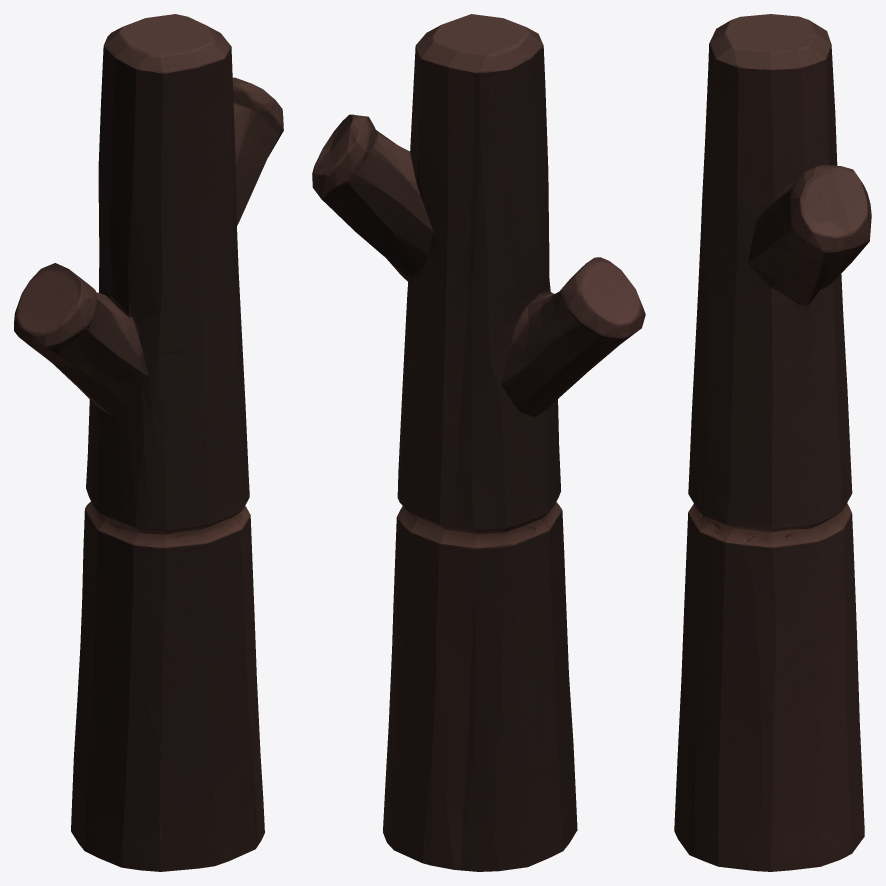
Rendered from bare-trunk-tall.glb.
The picture shows the model from 3 angles, left to right: view 1: azimuth 30°, elevation 25°; view 2: azimuth 150°, elevation 25°; view 3: azimuth 270°, elevation 25°; orthographic projection.
Visible parts, largest first — view 1: world; view 2: world; view 3: world.
Part boxes in pixels (left/top/right/bottom): world: left=14, top=14, right=283, bottom=871; world: left=312, top=14, right=645, bottom=871; world: left=674, top=14, right=871, bottom=871.
Bounding box in the file's own units: 0.3737 × 0.9957 × 0.2223.
1 material, 1 textured.
